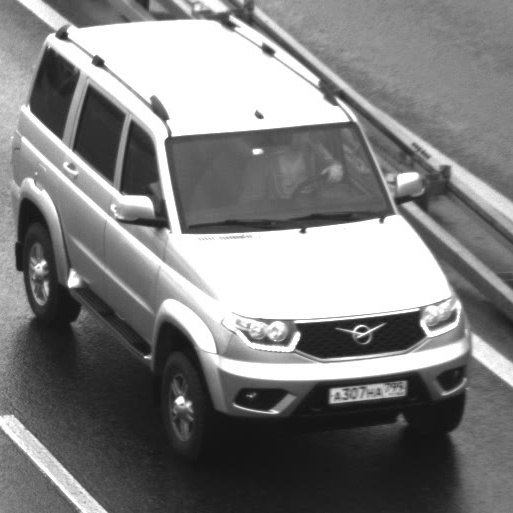plate: (318, 369, 416, 410)
